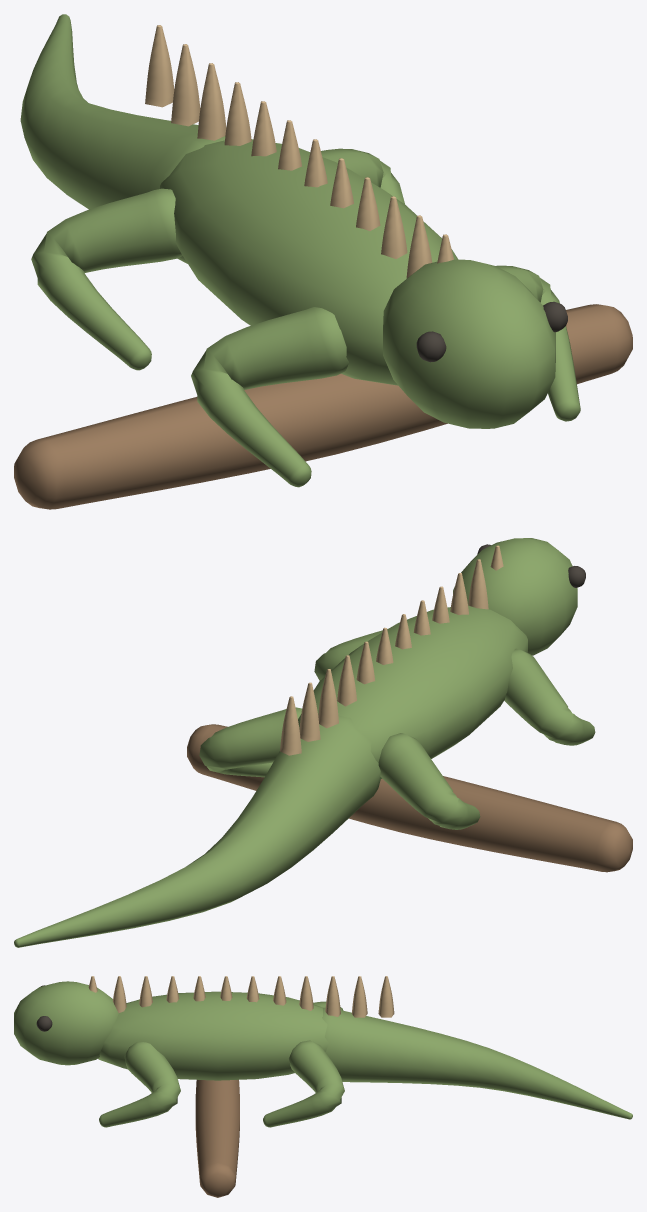
The model's file is rainforest-and-jungle-fauna-green-iguana-on-limb-55769d98__21692.glb.
3 views of the same model, one above another, from view 1: azimuth 30°, elevation 25°; view 2: azimuth 150°, elevation 25°; view 3: azimuth 270°, elevation 25° (orthographic). The views are drawn at different scales.
Parts seen in each view (by area): view 1: green-iguana-on-limb; view 2: green-iguana-on-limb; view 3: green-iguana-on-limb.
Part boxes in pixels (x1,y1,x2,y2): green-iguana-on-limb: (14,14,632,509); green-iguana-on-limb: (14,538,632,947); green-iguana-on-limb: (14,976,632,1197).
Size of the model in its own units: 0.701 by 0.3371 by 1.2.
